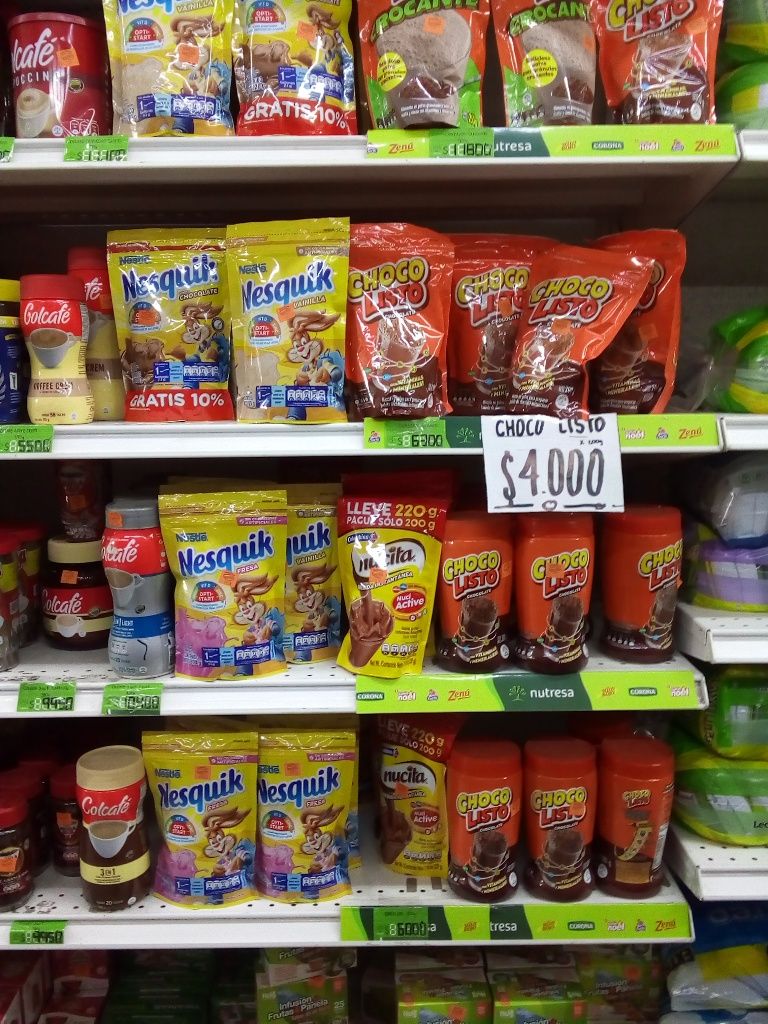COL0170102DYP25000: (356, 2, 491, 129)
COL0170103TRR30000: (602, 731, 673, 903)
COL0170305DYP20000: (258, 729, 355, 906)
COL0170306DYP20000: (103, 0, 239, 137)
